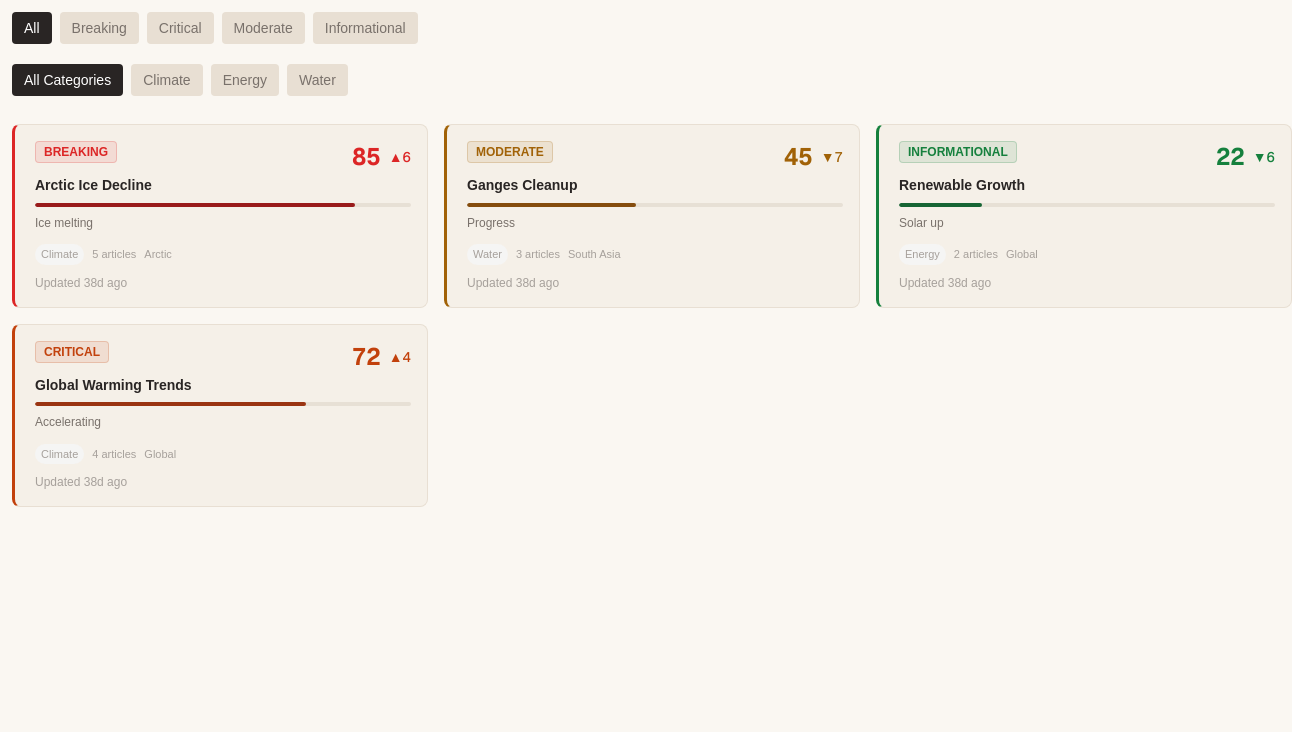
TopicGrid › shows 'No topics match' when category filter yields 0 results
Expected: the heading "Arctic Ice Decline" is shown, [35, 177, 152, 193]
Click the button with test id "filter-category-water". click: (317, 80)
box: [287, 64, 348, 96]
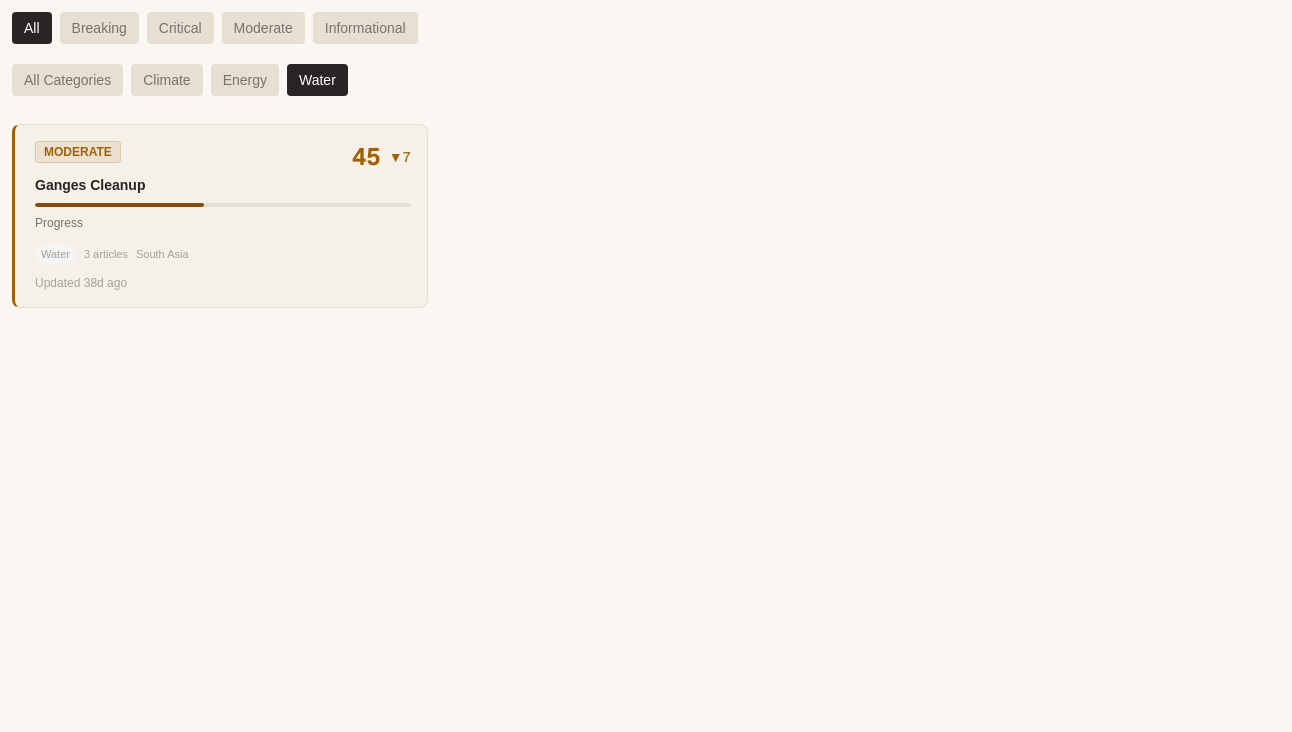
Expected: the heading "Ganges Cleanup" is shown, [35, 177, 146, 193]
Click the button with test id "filter-breaking". click: (99, 28)
box: [60, 12, 139, 44]
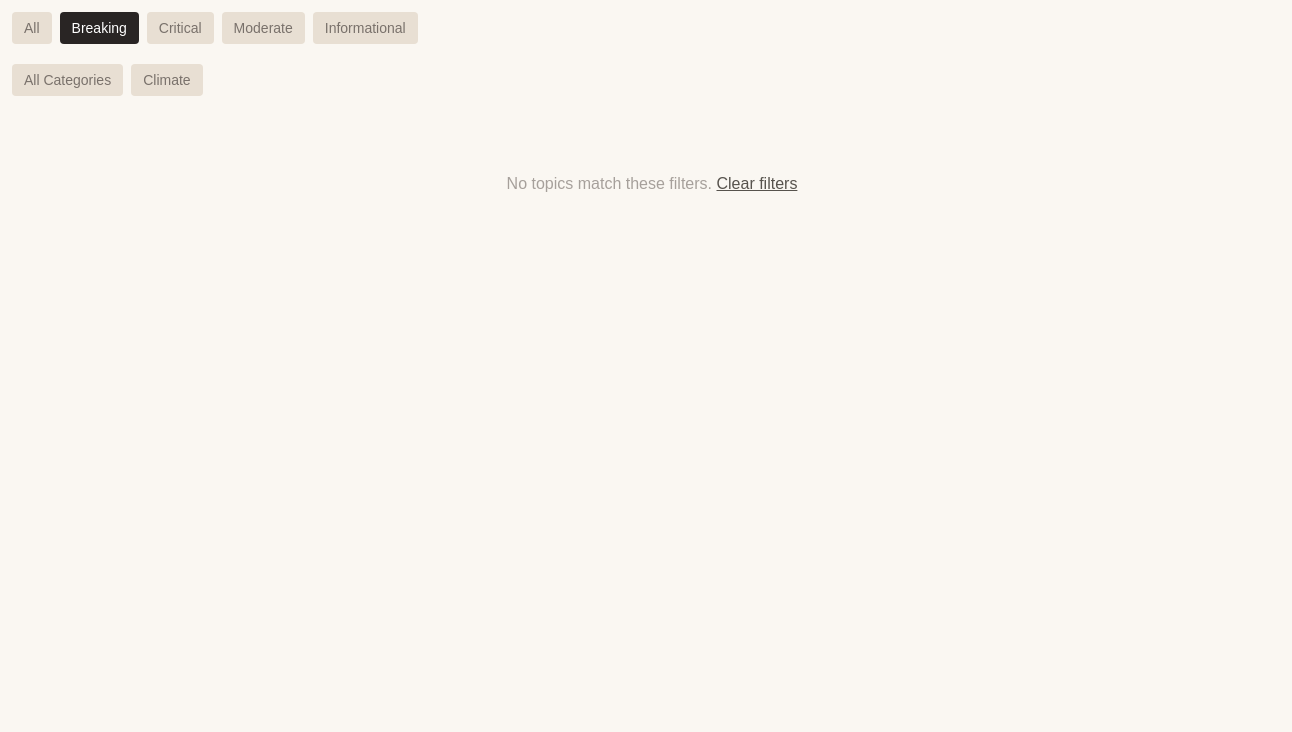
Result: the text "No topics match these filters. Clear filters" is shown at [507, 172, 797, 196]
Result: the button with test id "clear-filters" is shown at [716, 172, 797, 196]
